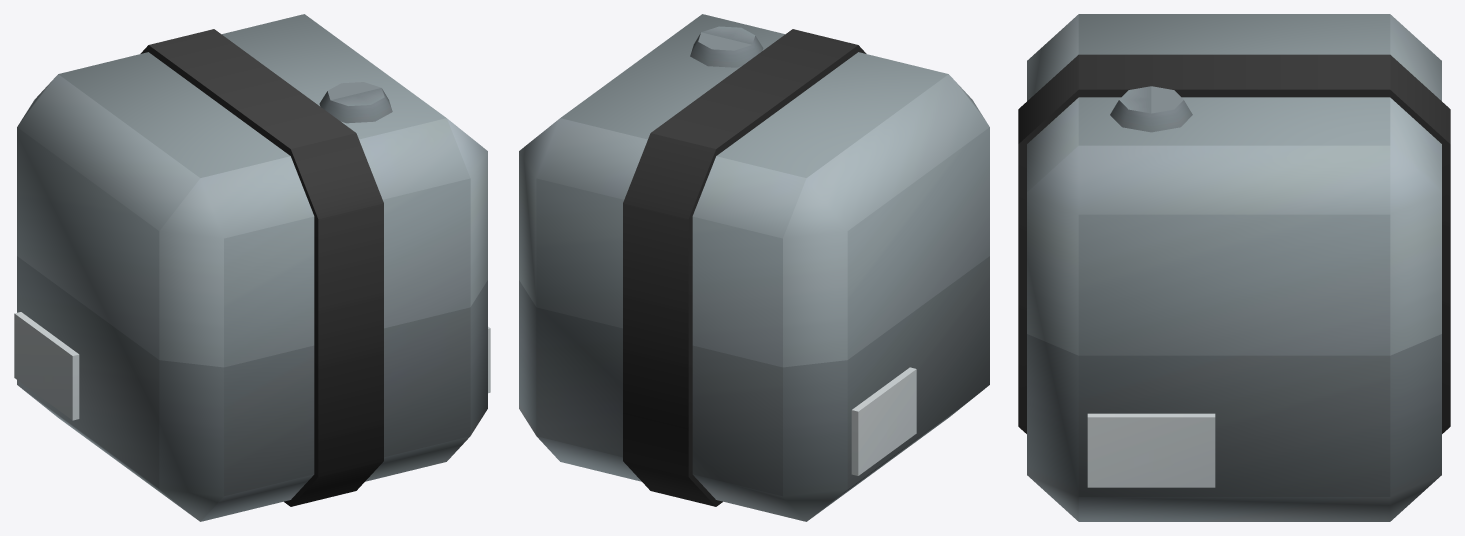
The model's file is kaykit-space-base-bits-cargo-b-packed.glb.
The picture shows the model from 3 angles, left to right: view 1: azimuth 30°, elevation 25°; view 2: azimuth 150°, elevation 25°; view 3: azimuth 270°, elevation 25°; orthographic projection. The views are drawn at different scales.
Parts seen in each view (by area): view 1: cargo_B_packed; view 2: cargo_B_packed; view 3: cargo_B_packed.
Part boxes in pixels (box(x1,y1,x2,y2)): cargo_B_packed: box(14, 14, 490, 521); cargo_B_packed: box(519, 14, 989, 521); cargo_B_packed: box(1018, 14, 1450, 521).
Bounding box in the file's own units: 0.5205 × 0.5303 × 0.5205.
1 material, 1 textured.
